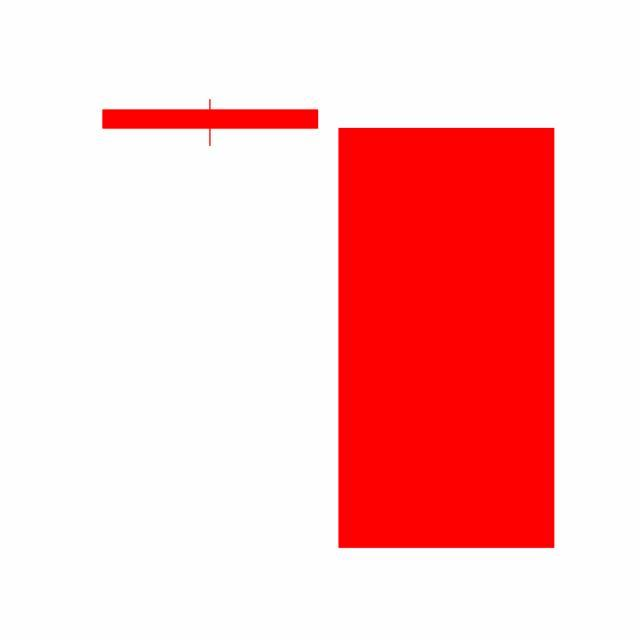Marubozu: (328, 125, 566, 554)
